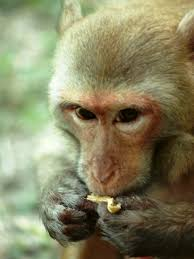monkey: (3, 6, 188, 246)
